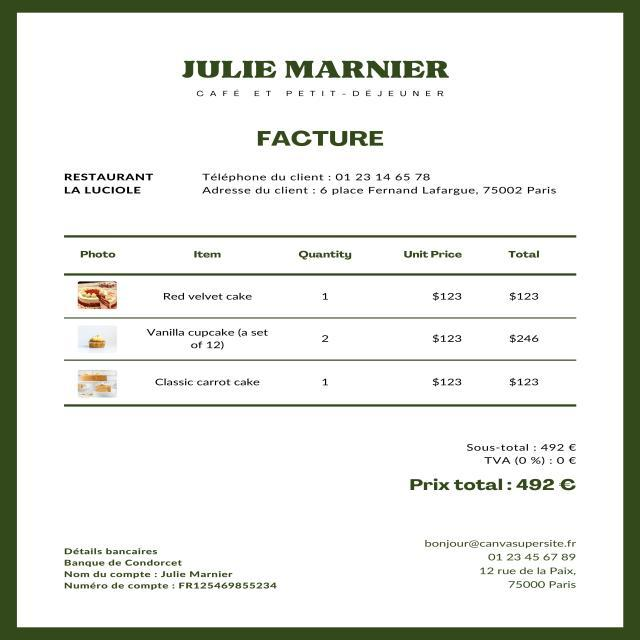ROI: (49, 232, 598, 405), (54, 524, 307, 607), (189, 166, 578, 213), (386, 431, 597, 505), (177, 52, 474, 100), (414, 529, 590, 597), (57, 152, 161, 206), (251, 119, 406, 153)
